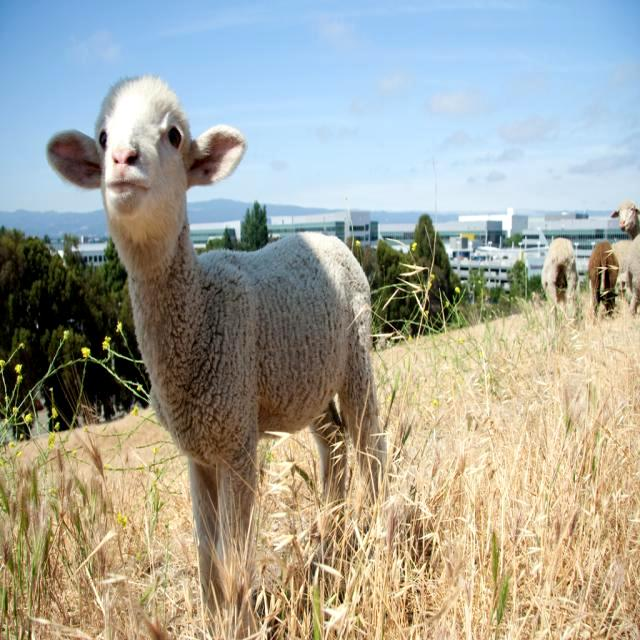sheep: (46, 75, 383, 614)
